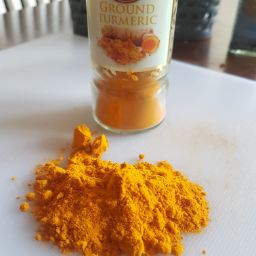Turmeric dried: (4, 127, 223, 256), (83, 1, 177, 136), (50, 116, 118, 256), (47, 177, 185, 242)
